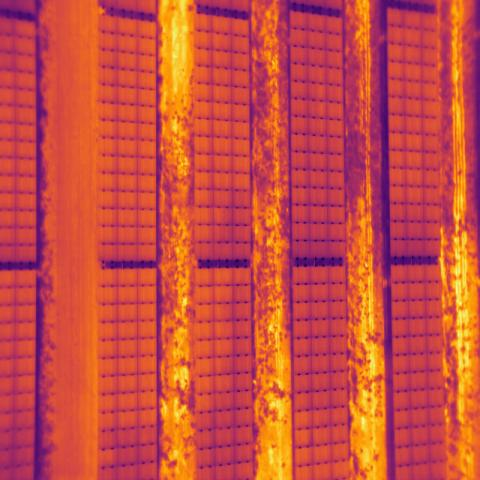fault: (99, 449, 116, 468)
